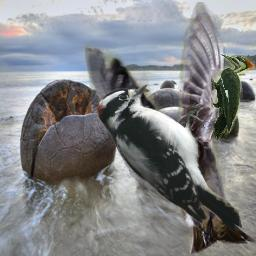Swallow: (85, 2, 256, 254)
Woodpecker: (97, 84, 242, 231), (211, 54, 255, 140)
